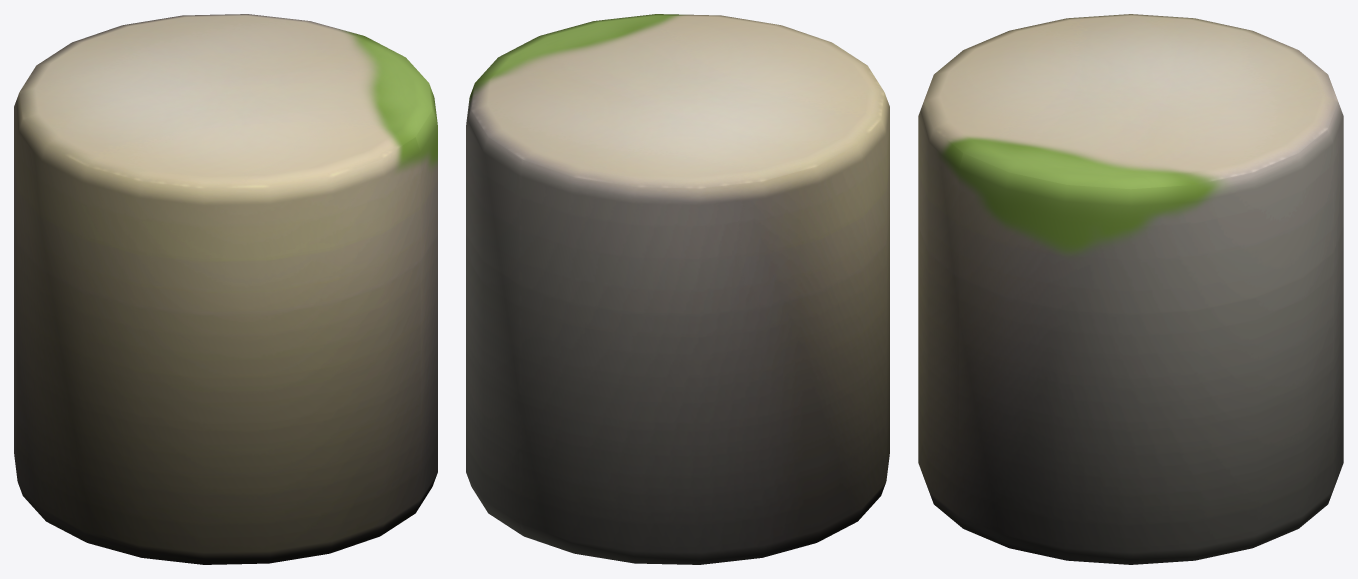
The picture shows the model from 3 angles, left to right: view 1: azimuth 30°, elevation 25°; view 2: azimuth 150°, elevation 25°; view 3: azimuth 270°, elevation 25°; orthographic projection.
Parts seen in each view (by area): view 1: 圆柱; view 2: 圆柱; view 3: 圆柱.
Boxes of the visible parts, box(x1,y1,x2,y2) form: 圆柱: box(14, 14, 437, 564); 圆柱: box(466, 14, 889, 564); 圆柱: box(918, 14, 1343, 564).
Bounding box in the file's own units: 100 × 100 × 100.
1 material, 1 textured.
